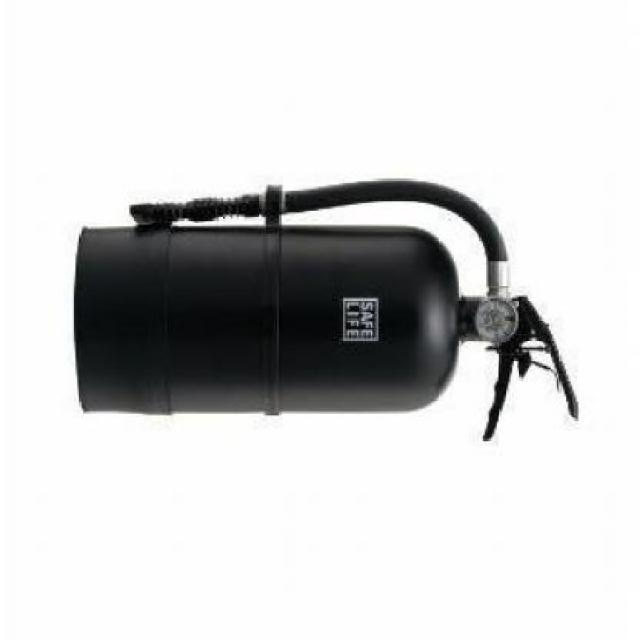fire extinguisher: (73, 178, 579, 442)
